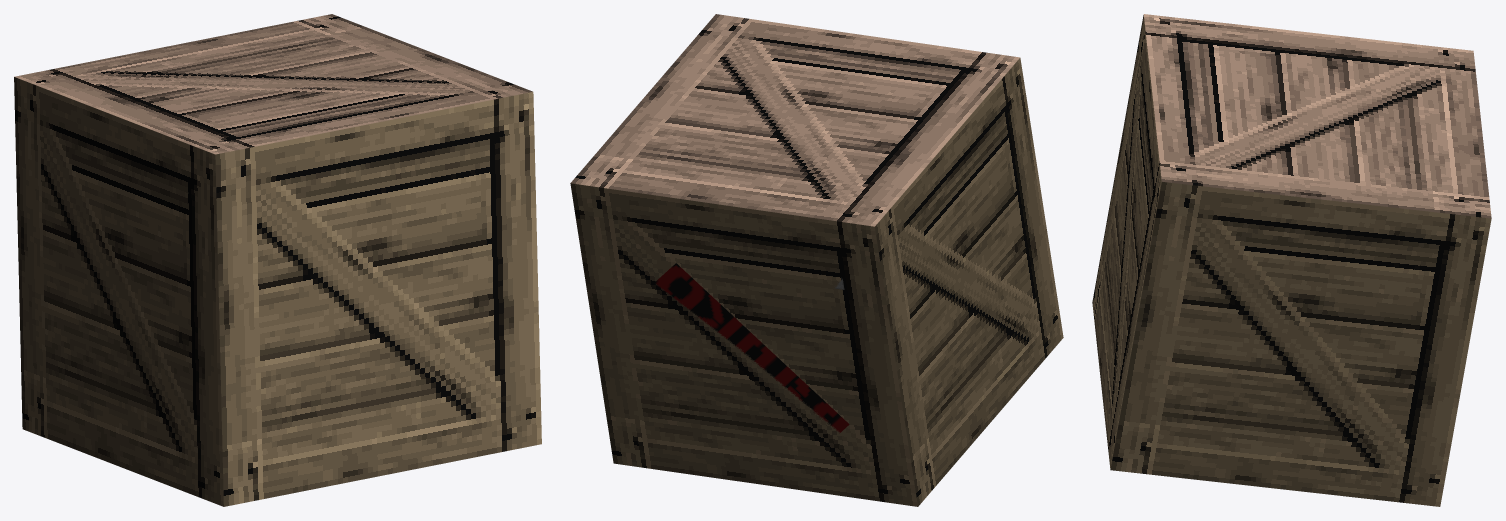
Rendered from primary_131.glb.
3 views of the same model, side by side, from view 1: azimuth 30°, elevation 25°; view 2: azimuth 150°, elevation 25°; view 3: azimuth 270°, elevation 25° (orthographic). The views are drawn at different scales.
Parts seen in each view (by area): view 1: Object; view 2: Object; view 3: Object.
Part boxes in pixels (left/top/right/bottom): Object: left=14, top=14, right=541, bottom=506; Object: left=570, top=14, right=1063, bottom=506; Object: left=1092, top=14, right=1491, bottom=506.
Size of the model in its own units: 1.14 by 1.19 by 1.18.
7 materials, 7 textured.
